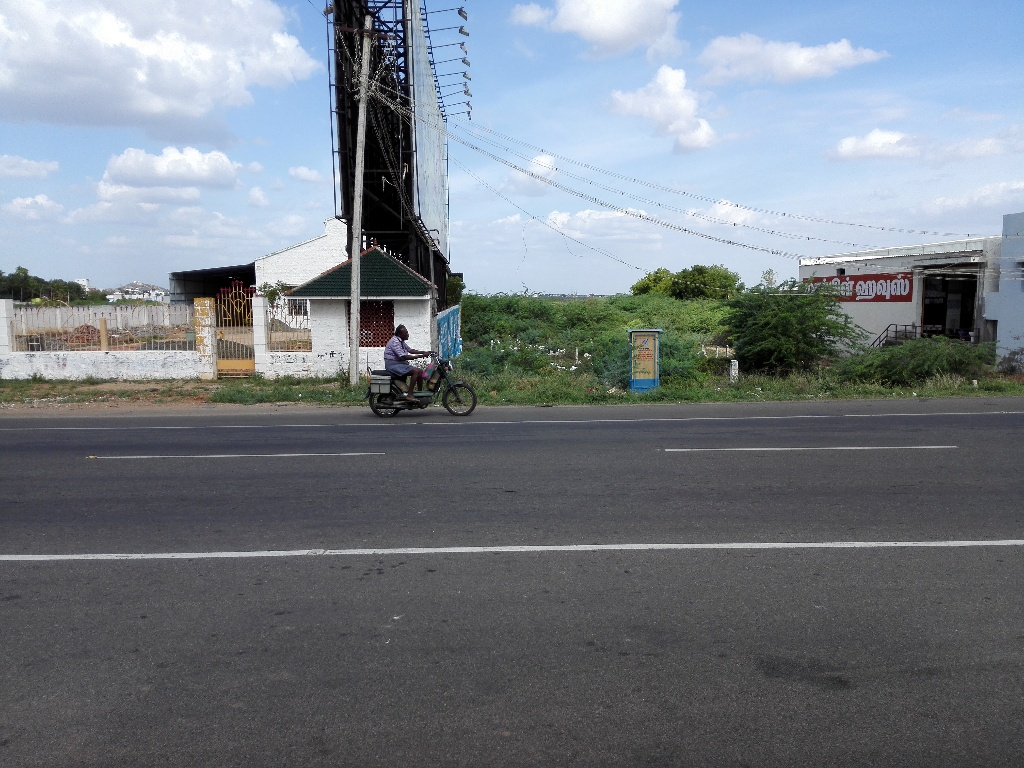biker: (351, 294, 498, 430)
nohelmet: (387, 315, 417, 350)
